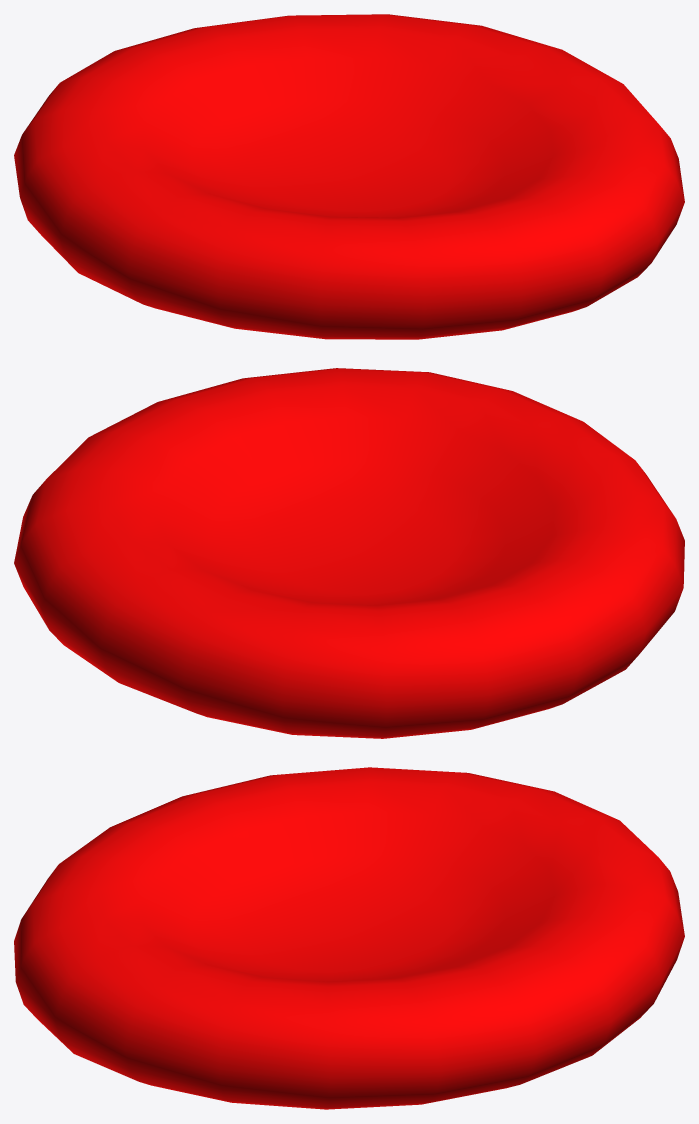
The model's file is redbloodcell.fbx.
3 views of the same model, one above another, from view 1: azimuth 30°, elevation 25°; view 2: azimuth 150°, elevation 25°; view 3: azimuth 270°, elevation 25° (orthographic). The views are drawn at different scales.
Visible parts, largest first — view 1: rbcell; view 2: rbcell; view 3: rbcell.
Boxes of the visible parts, left/top/right/bottom form: rbcell: left=14, top=14, right=684, bottom=339; rbcell: left=14, top=368, right=684, bottom=738; rbcell: left=14, top=767, right=684, bottom=1109.
Size of the model in its own units: 60.01 by 12.9 by 60.56.
1 material, 1 textured.
